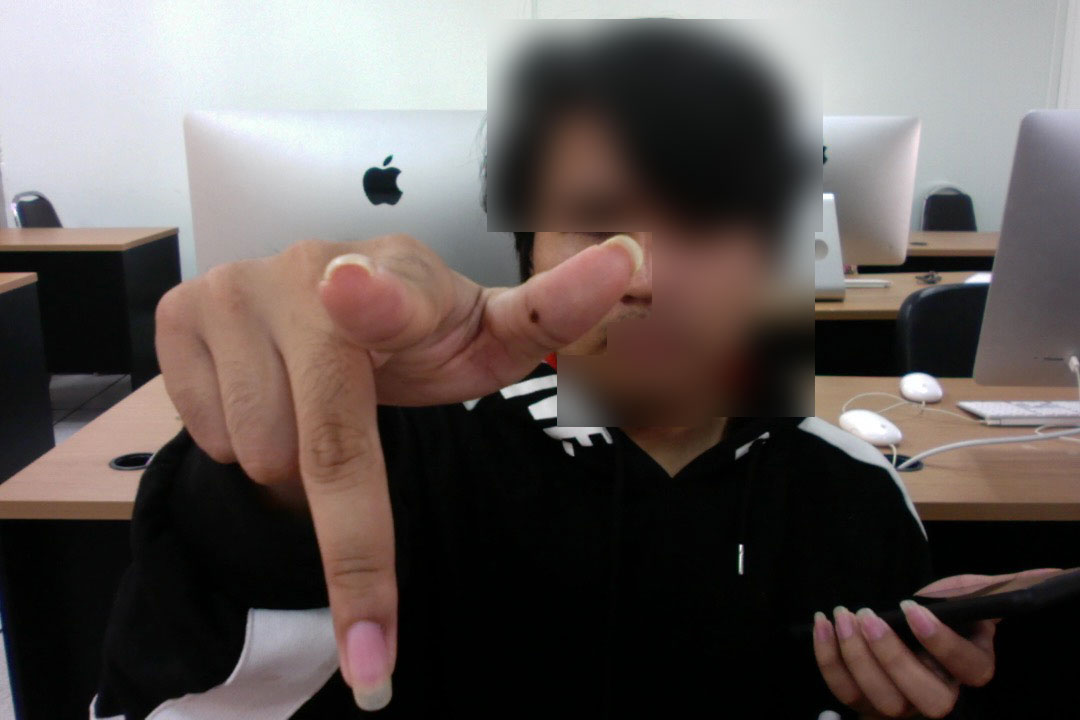por: (146, 220, 645, 719)
